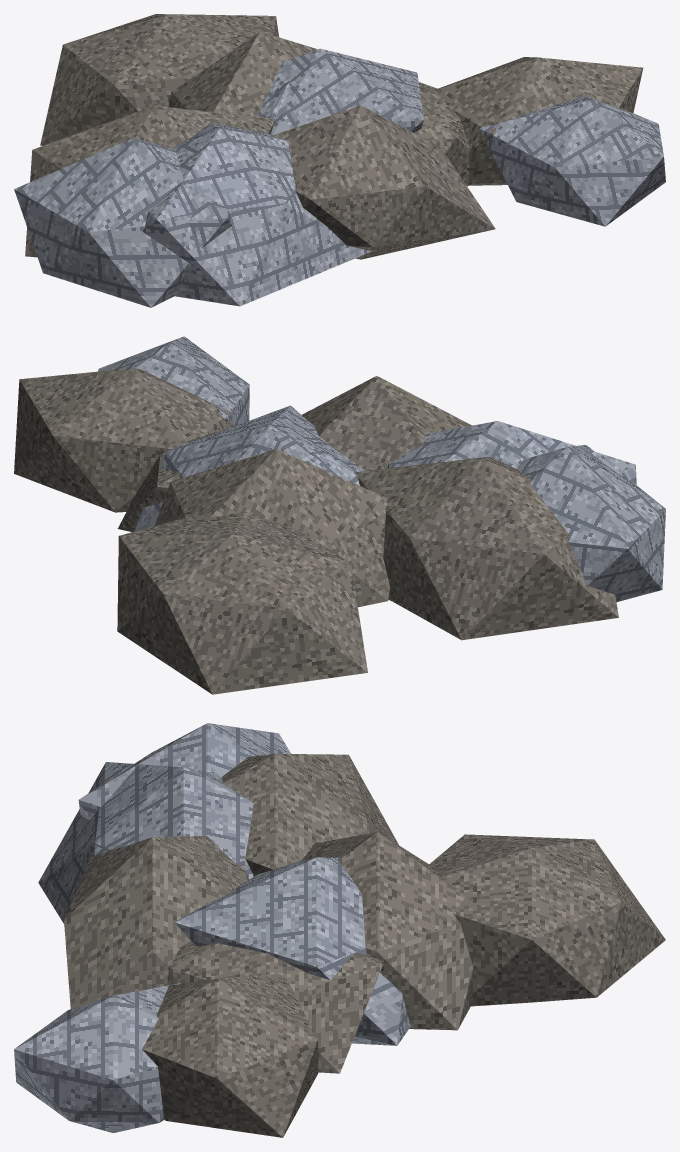
The model's file is rubble_snow.glb.
The picture shows the model from 3 angles, top to bottom: view 1: azimuth 30°, elevation 25°; view 2: azimuth 150°, elevation 25°; view 3: azimuth 270°, elevation 25°; orthographic projection. The views are drawn at different scales.
Parts seen in each view (by area): view 1: Body.008; view 2: Body.008; view 3: Body.008.
Part boxes in pixels (left/top/right/bottom): Body.008: left=14, top=14, right=665, bottom=307; Body.008: left=14, top=336, right=665, bottom=694; Body.008: left=14, top=723, right=665, bottom=1137.
Bounding box in the file's own units: 2.37 × 0.6271 × 1.93.
2 materials, 2 textured.
